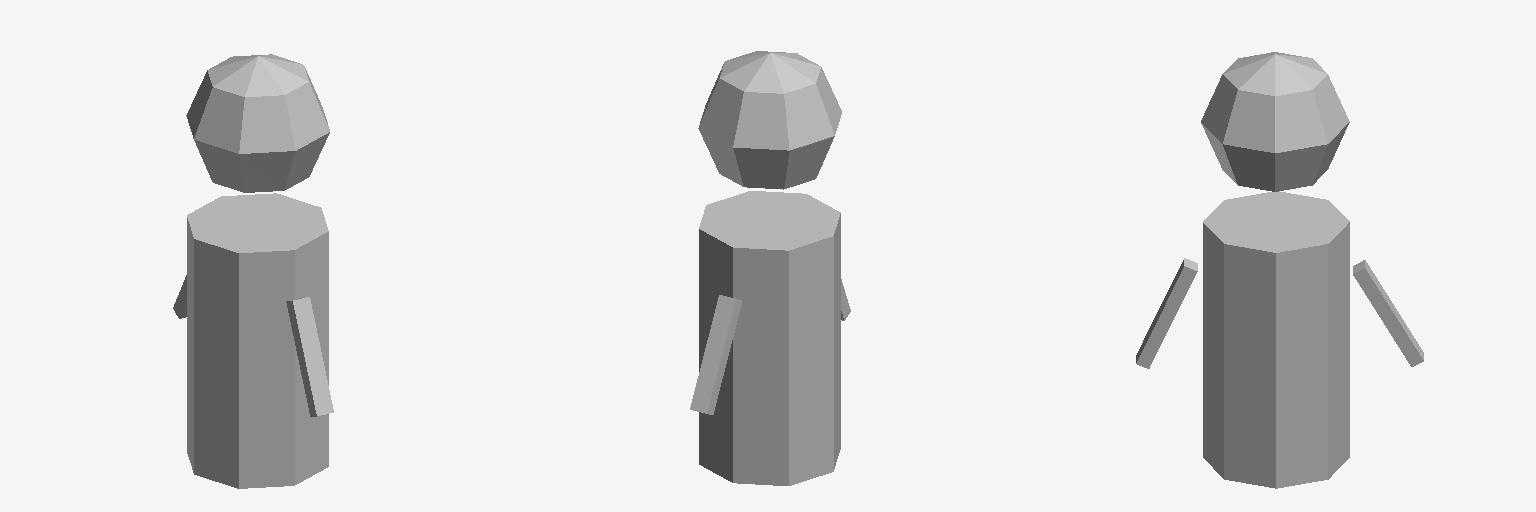
Rendered from mapVisPlayer.obj.
3 renders of one model, left to right at view 1: azimuth 30°, elevation 25°; view 2: azimuth 150°, elevation 25°; view 3: azimuth 270°, elevation 25°, orthographic.
Visible parts, largest first — view 1: Sphere001; view 2: Sphere001; view 3: Sphere001.
Boxes of the visible parts, box(x1,y1,x2,y2) form: Sphere001: box(173, 54, 333, 488); Sphere001: box(690, 51, 850, 485); Sphere001: box(1136, 52, 1423, 488).
Size of the model in its own units: 0.3891 by 1.16 by 0.7513.